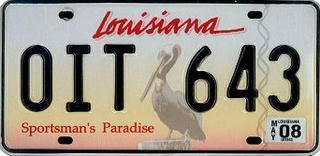placa de veiculo: (2, 0, 314, 151)
